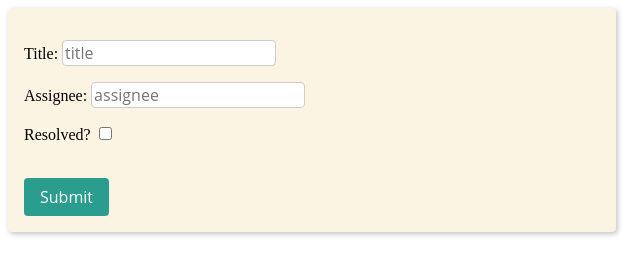
Test: CreateIncident component › submitting empty form should display errors
Expected: the field with test id "title-inp" is shown, 62,40 -> 276,66
Expected: the field with test id "assignee-inp" is shown, 91,82 -> 305,108
// submit empty form
Click the button with test id "submit-incident": click(66, 197) 24,178 -> 109,216
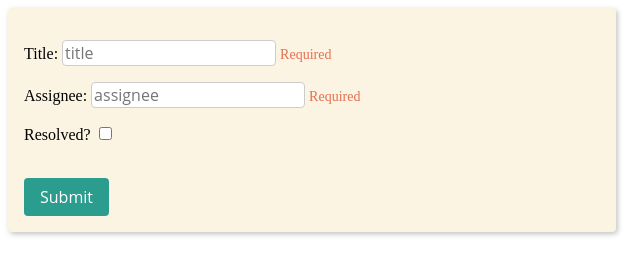
Now the number of elements with test id "error-message" is 2, box 280,47 -> 331,62; 309,89 -> 360,104
